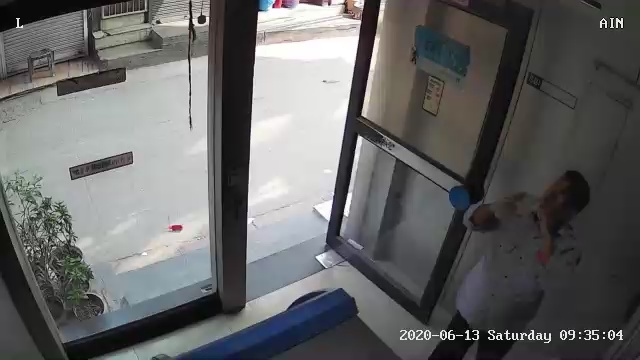open: (202, 6, 547, 328)
